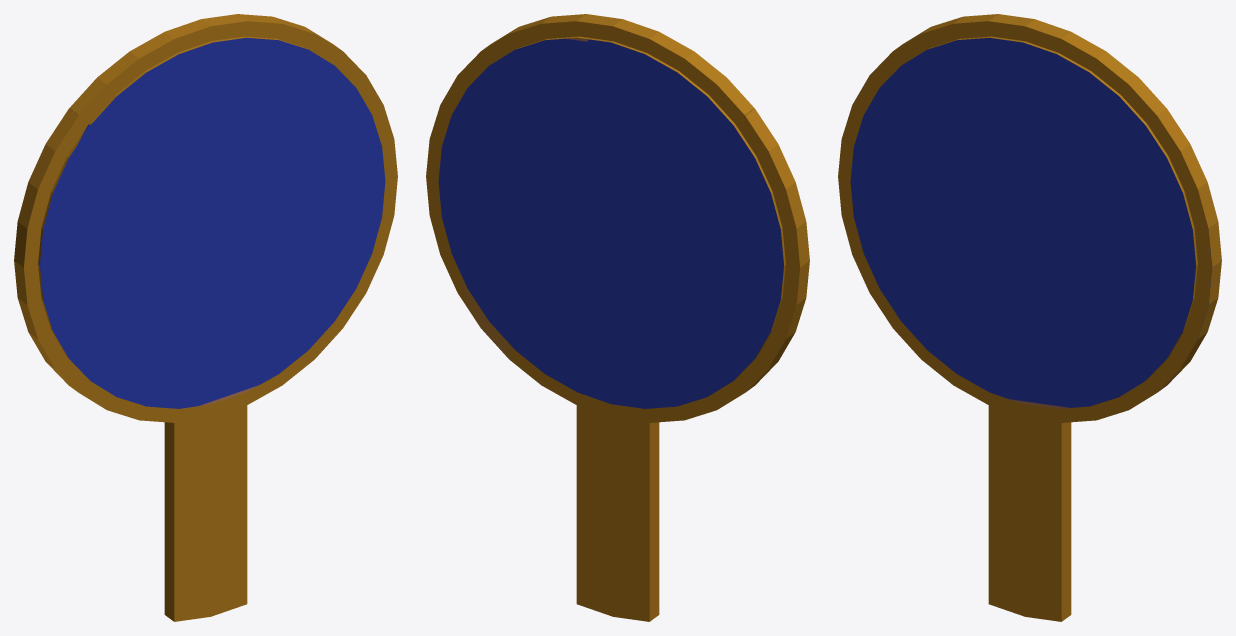
The model's file is PingPong.fbx.
3 views of the same model, side by side, from view 1: azimuth 30°, elevation 25°; view 2: azimuth 150°, elevation 25°; view 3: azimuth 330°, elevation 25° (orthographic).
Visible parts, largest first — view 1: Cylinder; view 2: Cylinder; view 3: Cylinder.
Part boxes in pixels (left/top/right/bottom): Cylinder: left=14, top=14, right=397, bottom=621; Cylinder: left=426, top=14, right=809, bottom=621; Cylinder: left=838, top=14, right=1221, bottom=621.
Size of the model in its own units: 200 by 302 by 12.31.
